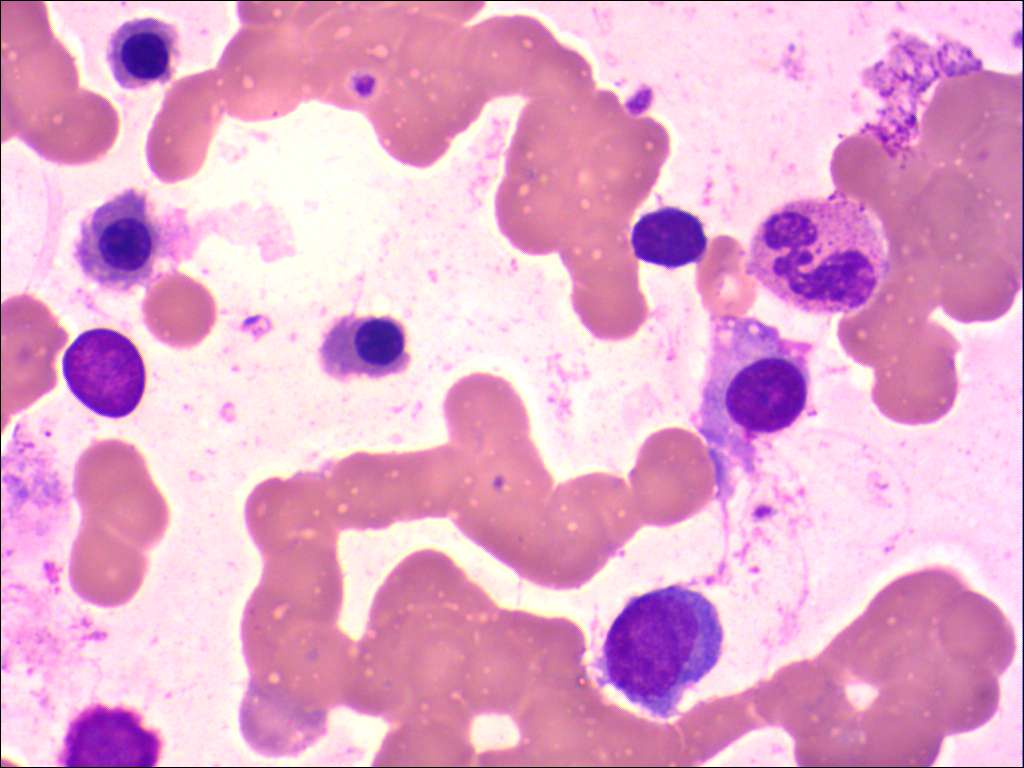24: (66, 185, 197, 296), (312, 310, 417, 385), (101, 12, 184, 94)
32: (627, 204, 710, 269)
51: (587, 580, 728, 721), (691, 310, 817, 442)
6: (740, 193, 892, 320)
x: (57, 324, 152, 421), (53, 698, 169, 768)
